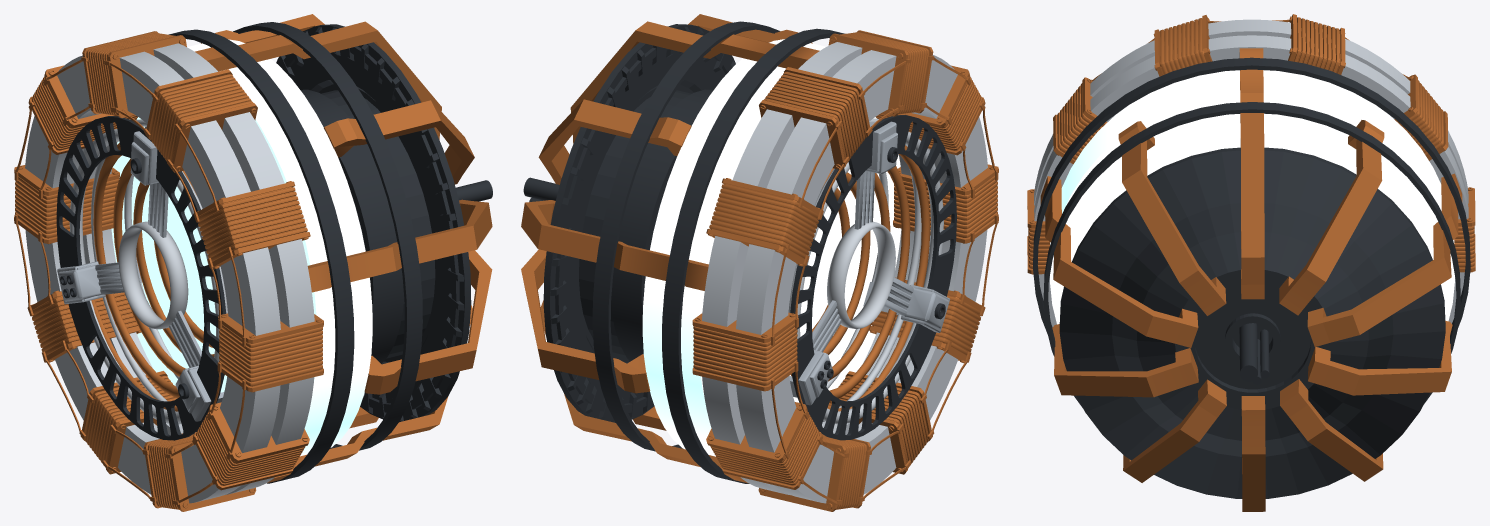
Rendered from arc-reactor.glb.
3 views of the same model, side by side, from view 1: azimuth 30°, elevation 25°; view 2: azimuth 150°, elevation 25°; view 3: azimuth 270°, elevation 25° (orthographic). The views are drawn at different scales.
Visible parts, largest first — view 1: Cylinder006, Reacton_Chamber, SecondaryHeatSink, Cylinder007, Cylinder005, Power_Converter, Cylinder016, Cylinder015, Box030, Box002, HeatSinkCoil, Box029 (+20 smaller); view 2: Cylinder006, Reacton_Chamber, SecondaryHeatSink, Cylinder007, Cylinder005, Power_Converter, Cylinder016, Cylinder015, HeatSinkCoil, Box027, Box026, Box028 (+19 smaller); view 3: SecondaryHeatSink, Reacton_Chamber, Cylinder016, Cylinder015, Cylinder005, Box035, Box032, Box031, Box038, Box037, Box040, Box039 (+10 smaller).
Part boxes in pixels (box(x1,y1,x2,y2)): Cylinder006: box(25, 51, 280, 503); Reacton_Chamber: box(111, 39, 372, 456); SecondaryHeatSink: box(276, 24, 492, 422); Cylinder007: box(56, 116, 226, 440); Cylinder005: box(83, 43, 314, 494); Power_Converter: box(300, 89, 435, 363); Cylinder016: box(169, 29, 354, 483); Cylinder015: box(233, 22, 422, 450); Box030: box(193, 181, 310, 337); Box002: box(210, 313, 323, 457); HeatSinkCoil: box(91, 143, 224, 411); Box029: box(144, 69, 257, 212); Cylinder006: box(736, 50, 987, 503); Reacton_Chamber: box(642, 39, 901, 456); SecondaryHeatSink: box(523, 24, 735, 422); Cylinder007: box(790, 115, 956, 440); Cylinder005: box(702, 42, 930, 495); Power_Converter: box(579, 89, 713, 361); Cylinder016: box(662, 28, 844, 483); Cylinder015: box(592, 21, 780, 451); HeatSinkCoil: box(791, 145, 930, 411); Box027: box(706, 123, 844, 266); Box026: box(692, 247, 805, 391); Box028: box(759, 59, 909, 170); SecondaryHeatSink: box(1059, 147, 1445, 498); Reacton_Chamber: box(1050, 70, 1454, 324); Cylinder016: box(1033, 57, 1470, 333); Cylinder015: box(1043, 102, 1460, 407); Cylinder005: box(1034, 35, 1468, 327); Box035: box(1040, 176, 1198, 347); Box032: box(1307, 173, 1462, 346); Box031: box(1239, 48, 1264, 299); Box038: box(1279, 120, 1384, 315); Box037: box(1118, 121, 1226, 315); Box040: box(1052, 324, 1198, 397); Box039: box(1308, 320, 1452, 395).
Size of the model in its own units: 94.48 by 106 by 107.
